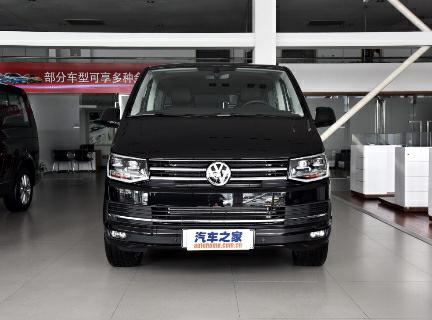大众-迈特威: (99, 58, 332, 278)
